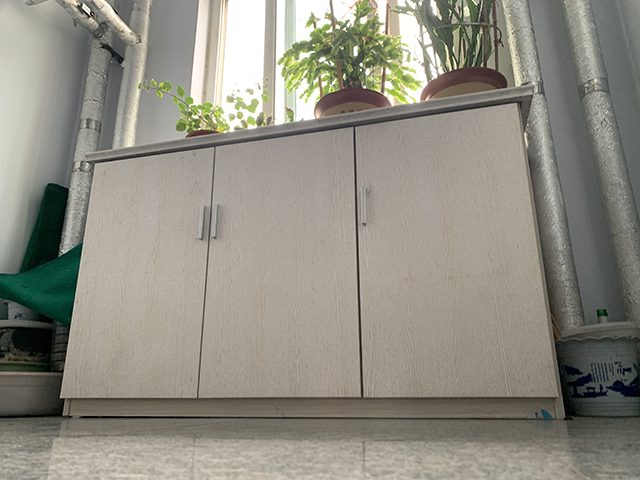cabinet: (59, 84, 568, 421)
